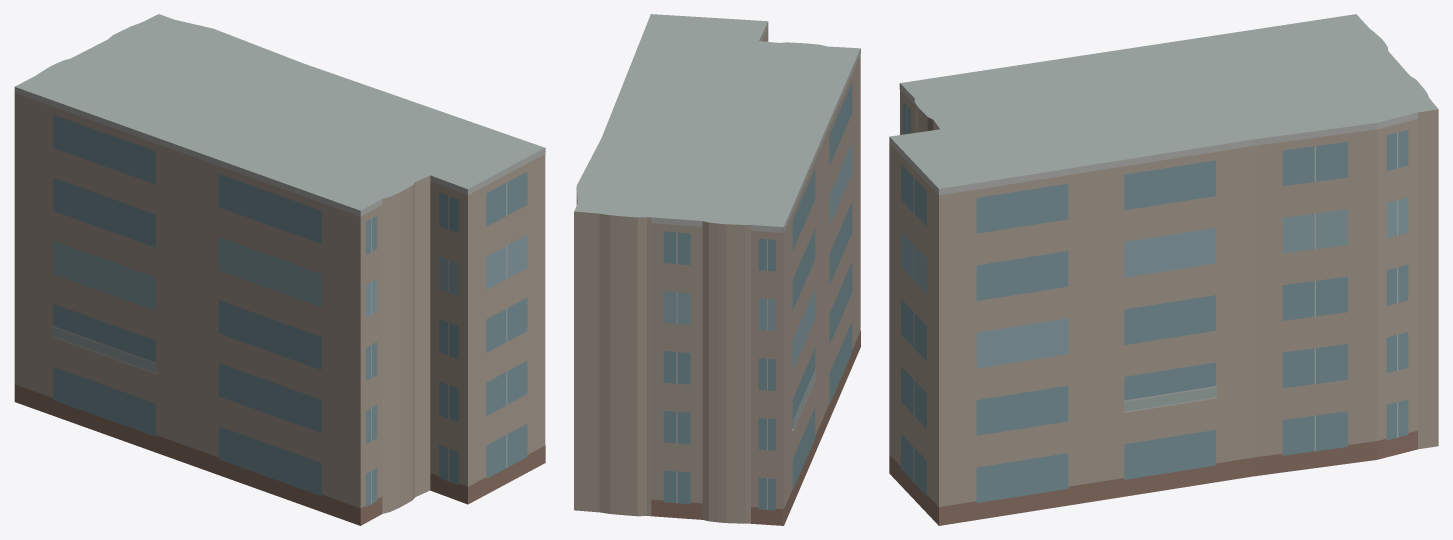
The model's file is survey-upis-32836403.glb.
3 views of the same model, side by side, from view 1: azimuth 30°, elevation 25°; view 2: azimuth 150°, elevation 25°; view 3: azimuth 270°, elevation 25° (orthographic). The views are drawn at different scales.
Parts seen in each view (by area): view 1: survey-upis-32836403.tmp; view 2: survey-upis-32836403.tmp; view 3: survey-upis-32836403.tmp.
Boxes of the visible parts, x1,y1,x2,y2 form: survey-upis-32836403.tmp: (14, 14, 545, 525); survey-upis-32836403.tmp: (574, 14, 860, 525); survey-upis-32836403.tmp: (889, 14, 1438, 525).
Bounding box in the file's own units: 14.16 × 12.7 × 18.77.
